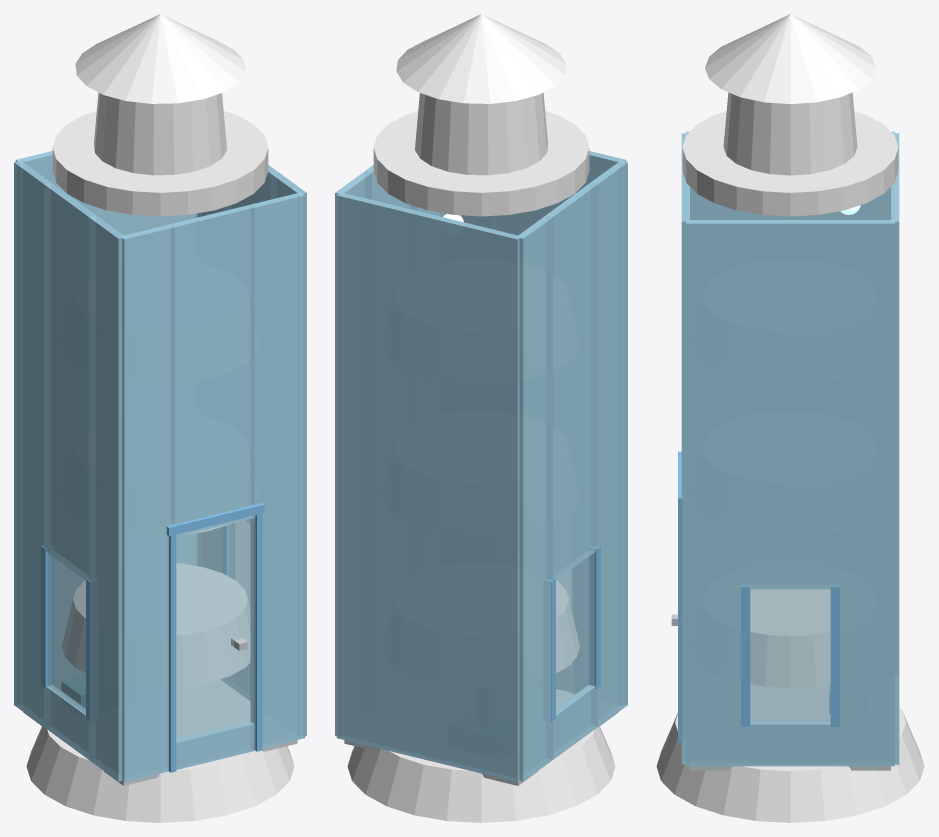
Rendered from lighthouse.glb.
The picture shows the model from 3 angles, left to right: view 1: azimuth 30°, elevation 25°; view 2: azimuth 150°, elevation 25°; view 3: azimuth 270°, elevation 25°; orthographic projection.
Visible parts, largest first — view 1: Shell_Front_Side_-1, Shell_Front_Side_1, Shell_Front_Header, Shell_Side_-1_End_1, Shell_Side_-1_Header, Shell_Side_-1_End_-1, Door_Main_Glass, Original_stone, Original_metal, Original_roof, Original_accent, Original_glass (+16 smaller); view 2: Shell_Back, Shell_Side_-1_End_-1, Shell_Side_-1_Header, Shell_Side_-1_End_1, Original_stone, Original_metal, Original_roof, Original_glass, Window_Right_Glass, Shell_Front_Side_-1, Shell_Side_-1_Sill, WindowFrame_-1_1 (+6 smaller); view 3: Shell_Side_1_Header, Shell_Side_1_End_-1, Shell_Side_1_End_1, Original_stone, Original_metal, Window_Left_Glass, Original_roof, Original_glass, Original_accent, Shell_Side_1_Sill, Shell_Back, Walkable_Interior_Floor (+6 smaller).
Part boxes in pixels (left/top/right/bottom): Shell_Front_Side_-1: left=120, top=224, right=174, bottom=782; Shell_Front_Side_1: left=251, top=192, right=305, bottom=750; Shell_Front_Header: left=171, top=204, right=254, bottom=536; Shell_Side_-1_End_1: left=88, top=215, right=125, bottom=781; Shell_Side_-1_Header: left=44, top=182, right=95, bottom=580; Shell_Side_-1_End_-1: left=14, top=161, right=50, bottom=726; Door_Main_Glass: left=176, top=518, right=253, bottom=742; Original_stone: left=26, top=726, right=294, bottom=822; Original_metal: left=52, top=111, right=268, bottom=216; Original_roof: left=75, top=14, right=245, bottom=103; Original_accent: left=62, top=563, right=250, bottom=686; Original_glass: left=94, top=92, right=226, bottom=175; Shell_Back: left=336, top=192, right=521, bottom=782; Shell_Side_-1_End_-1: left=516, top=215, right=553, bottom=781; Shell_Side_-1_Header: left=546, top=182, right=597, bottom=580; Shell_Side_-1_End_1: left=591, top=161, right=627, bottom=726; Original_stone: left=347, top=689, right=615, bottom=822; Original_metal: left=373, top=111, right=589, bottom=216; Original_roof: left=396, top=14, right=566, bottom=103; Original_glass: left=415, top=92, right=547, bottom=175; Window_Right_Glass: left=556, top=553, right=594, bottom=713; Shell_Front_Side_-1: left=571, top=151, right=626, bottom=704; Shell_Side_-1_Sill: left=553, top=685, right=597, bottom=759; WindowFrame_-1_1: left=588, top=545, right=600, bottom=688; Shell_Side_1_Header: left=745, top=220, right=835, bottom=589; Shell_Side_1_End_-1: left=835, top=220, right=894, bottom=766; Shell_Side_1_End_1: left=686, top=220, right=745, bottom=766; Original_stone: left=656, top=707, right=924, bottom=822; Original_metal: left=682, top=111, right=898, bottom=216; Window_Left_Glass: left=750, top=589, right=830, bottom=723; Original_roof: left=705, top=14, right=875, bottom=103; Original_glass: left=723, top=92, right=857, bottom=175; Original_accent: left=750, top=589, right=830, bottom=687; Shell_Side_1_Sill: left=745, top=721, right=835, bottom=766; Shell_Back: left=891, top=133, right=899, bottom=764; Walkable_Interior_Floor: left=690, top=684, right=890, bottom=770.
Size of the model in its own units: 1.44 by 4.46 by 1.44.
